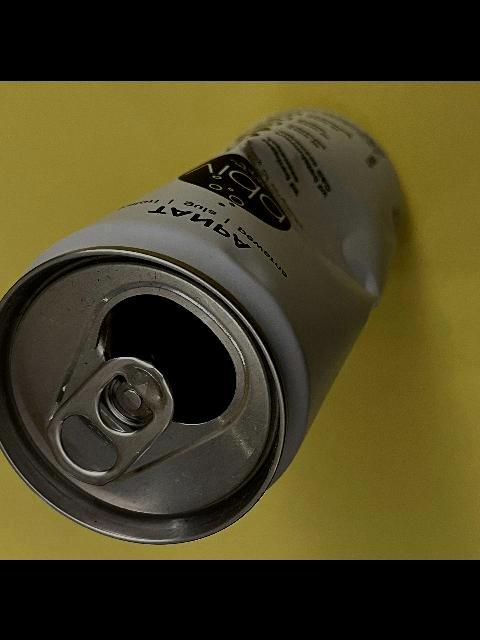drinkcan: (0, 106, 409, 550)
